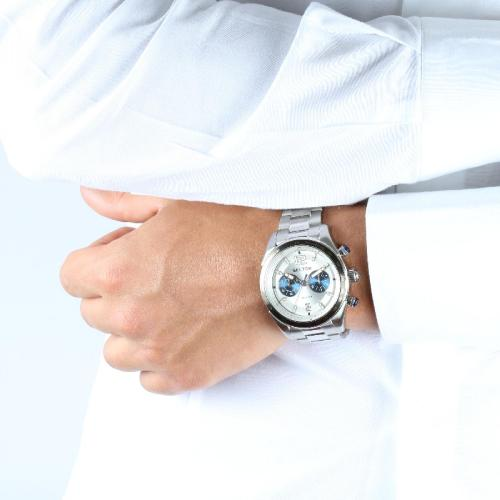clock: (263, 245, 341, 324)
